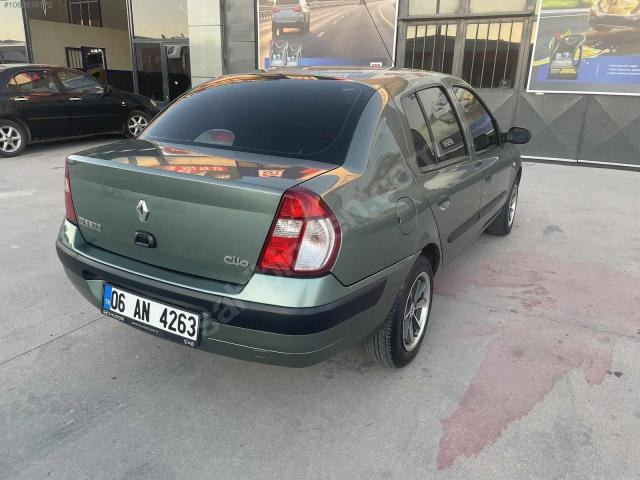plaka: (102, 284, 201, 346)
